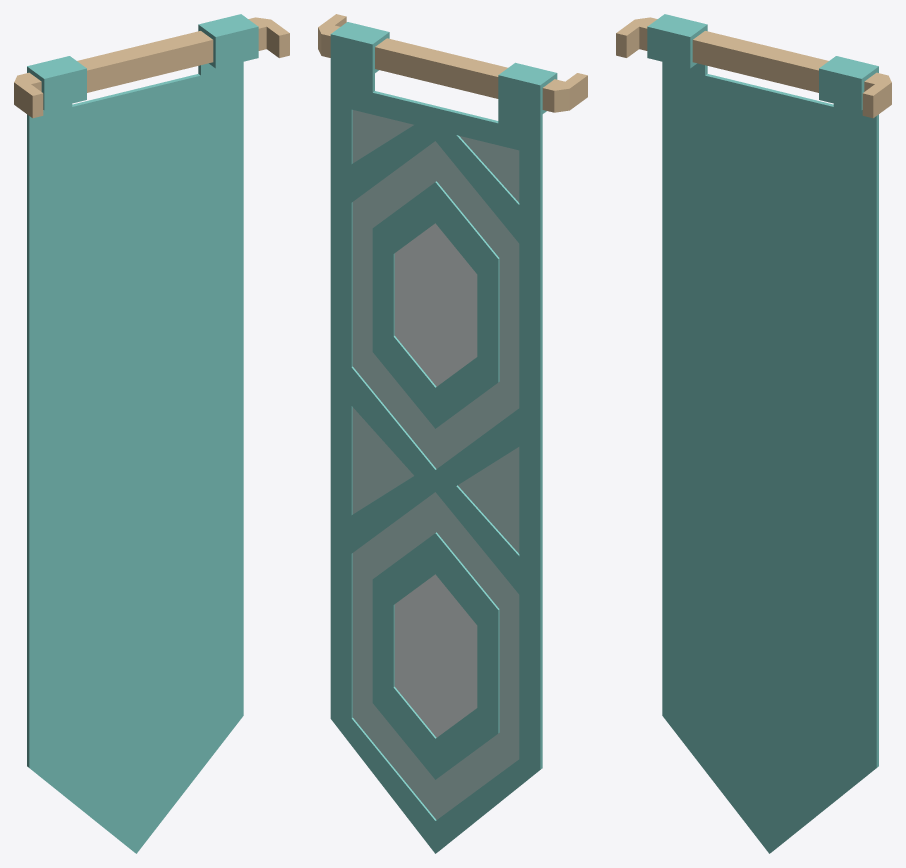
File: opengameart-modular-temple-3d-models_20.glb
3 renders of one model, left to right at view 1: azimuth 30°, elevation 25°; view 2: azimuth 150°, elevation 25°; view 3: azimuth 330°, elevation 25°, orthographic. The views are drawn at different scales.
Parts seen in each view (by area): view 1: object2, object1; view 2: object2, object1; view 3: object2, object1.
Boxes of the visible parts, box(x1,y1,x2,y2) form: object2: box(27, 14, 258, 853); object1: box(14, 17, 289, 118); object2: box(330, 22, 557, 853); object1: box(318, 14, 587, 112); object2: box(647, 14, 878, 853); object1: box(616, 17, 891, 118).
Size of the model in its own units: 0.54 by 1.63 by 0.099.
